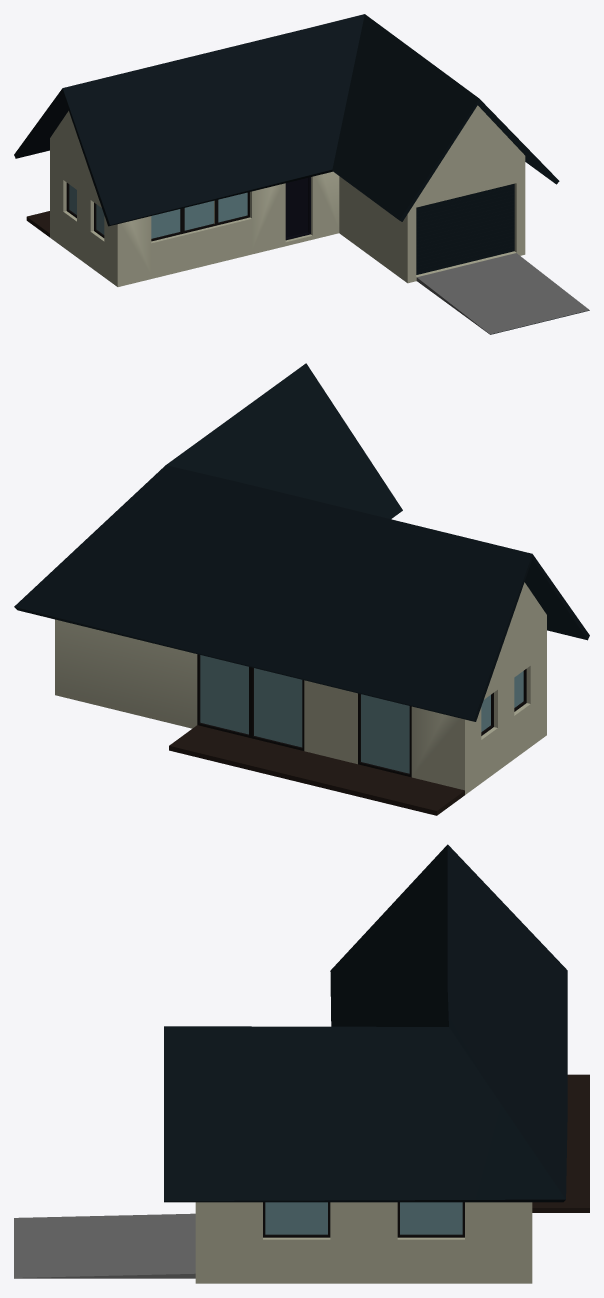
File: BuildingResident8.fbx
3 views of the same model, one above another, from view 1: azimuth 30°, elevation 25°; view 2: azimuth 150°, elevation 25°; view 3: azimuth 270°, elevation 25° (orthographic). The views are drawn at different scales.
Parts seen in each view (by area): view 1: BuildingResident8; view 2: BuildingResident8; view 3: BuildingResident8.
Part boxes in pixels (left/top/right/bottom): BuildingResident8: left=14, top=14, right=589, bottom=334; BuildingResident8: left=14, top=363, right=589, bottom=815; BuildingResident8: left=14, top=844, right=589, bottom=1283.
Size of the model in its own units: 32.87 by 14.78 by 34.72.
